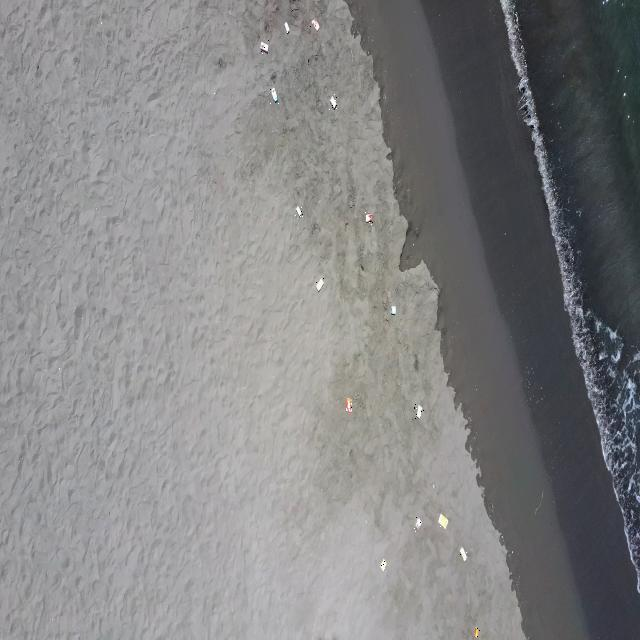Garbage: (437, 513, 447, 528), (315, 276, 324, 291), (344, 396, 352, 412), (415, 403, 423, 417), (379, 557, 386, 571), (413, 515, 420, 529), (364, 212, 372, 223), (260, 40, 267, 52), (312, 18, 319, 30), (460, 547, 466, 560), (329, 95, 335, 108), (295, 204, 301, 216), (271, 87, 276, 101), (472, 627, 479, 636), (390, 304, 395, 315), (284, 22, 288, 32), (432, 483, 435, 487)
